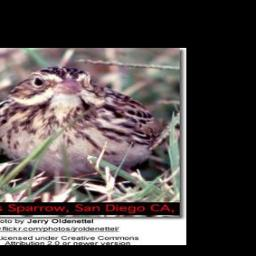Sparrow: (0, 65, 166, 198)
